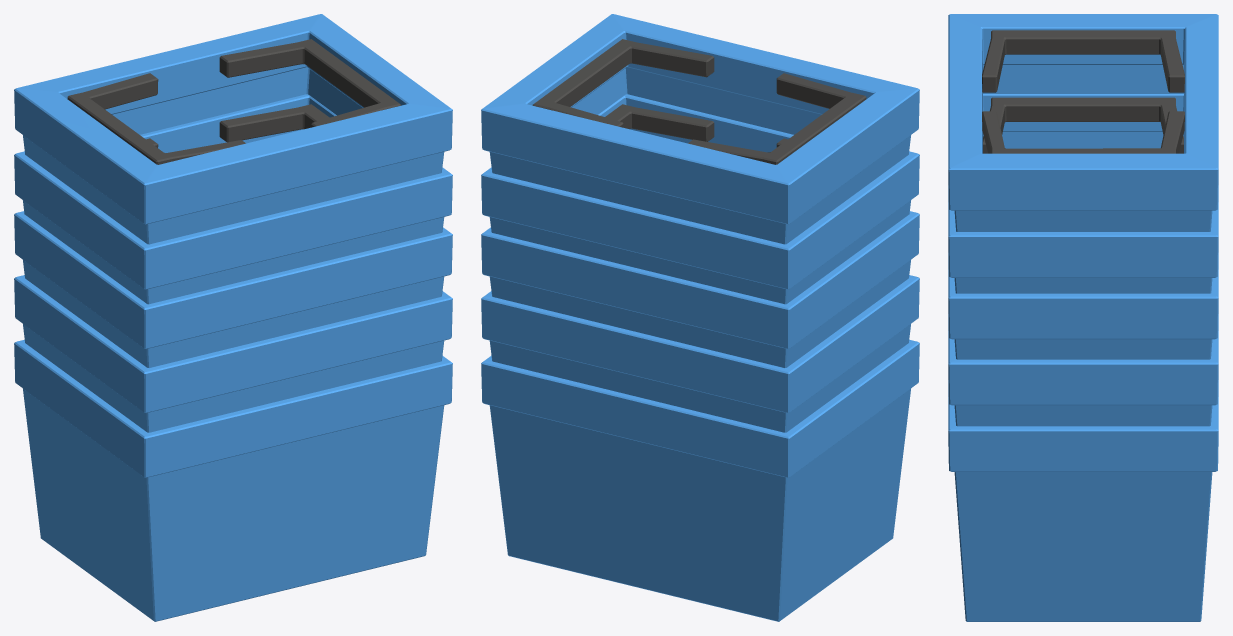
The model's file is STACK_BLUE.fbx.
3 views of the same model, side by side, from view 1: azimuth 30°, elevation 25°; view 2: azimuth 150°, elevation 25°; view 3: azimuth 270°, elevation 25° (orthographic). The views are drawn at different scales.
Visible parts, largest first — view 1: Basket_close5; view 2: Basket_close5; view 3: Basket_close5.
Part boxes in pixels (x1=…): Basket_close5: x1=14, y1=14, x2=452, y2=621; Basket_close5: x1=481, y1=14, x2=919, y2=621; Basket_close5: x1=948, y1=14, x2=1218, y2=621.
Size of the model in its own units: 93.36 by 130 by 68.74.
1 material, 1 textured.
